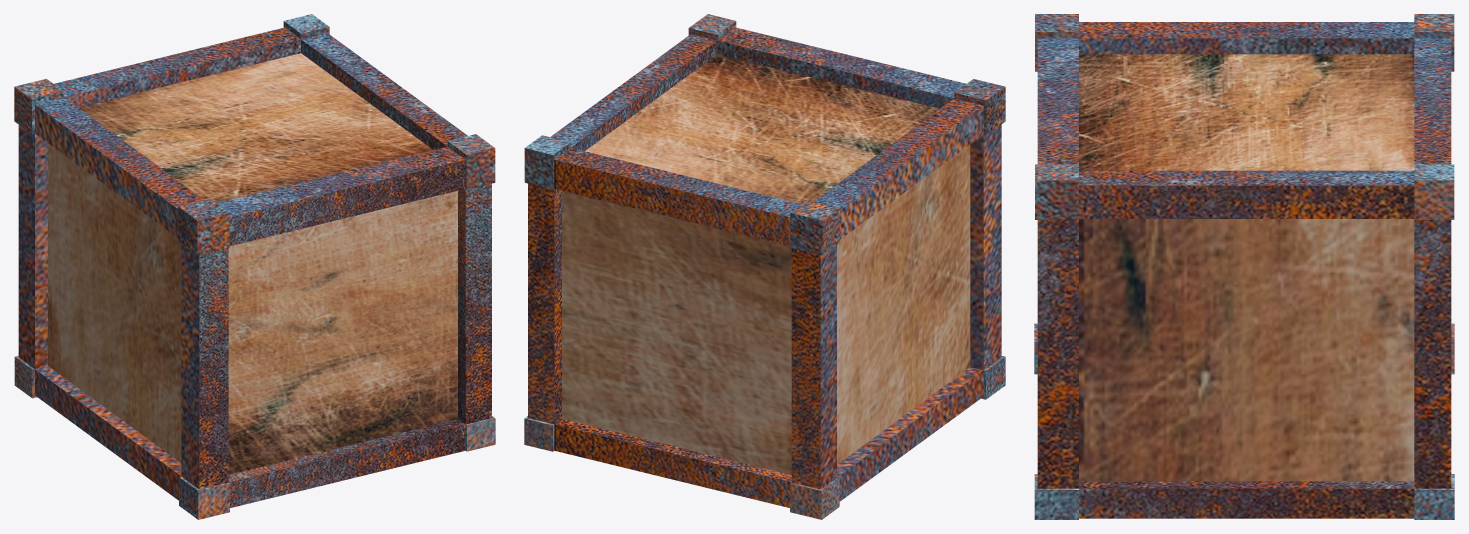
File: Caja.fbx
3 views of the same model, side by side, from view 1: azimuth 30°, elevation 25°; view 2: azimuth 150°, elevation 25°; view 3: azimuth 270°, elevation 25° (orthographic). The views are drawn at different scales.
Parts seen in each view (by area): view 1: trabajo_:Caja; view 2: trabajo_:Caja; view 3: trabajo_:Caja.
Boxes of the visible parts, bbox=[...] form: trabajo_:Caja: bbox=[14, 14, 495, 519]; trabajo_:Caja: bbox=[524, 14, 1005, 519]; trabajo_:Caja: bbox=[1034, 14, 1454, 519].
Bounding box in the file's own units: 0.7599 × 0.7287 × 0.8111.
